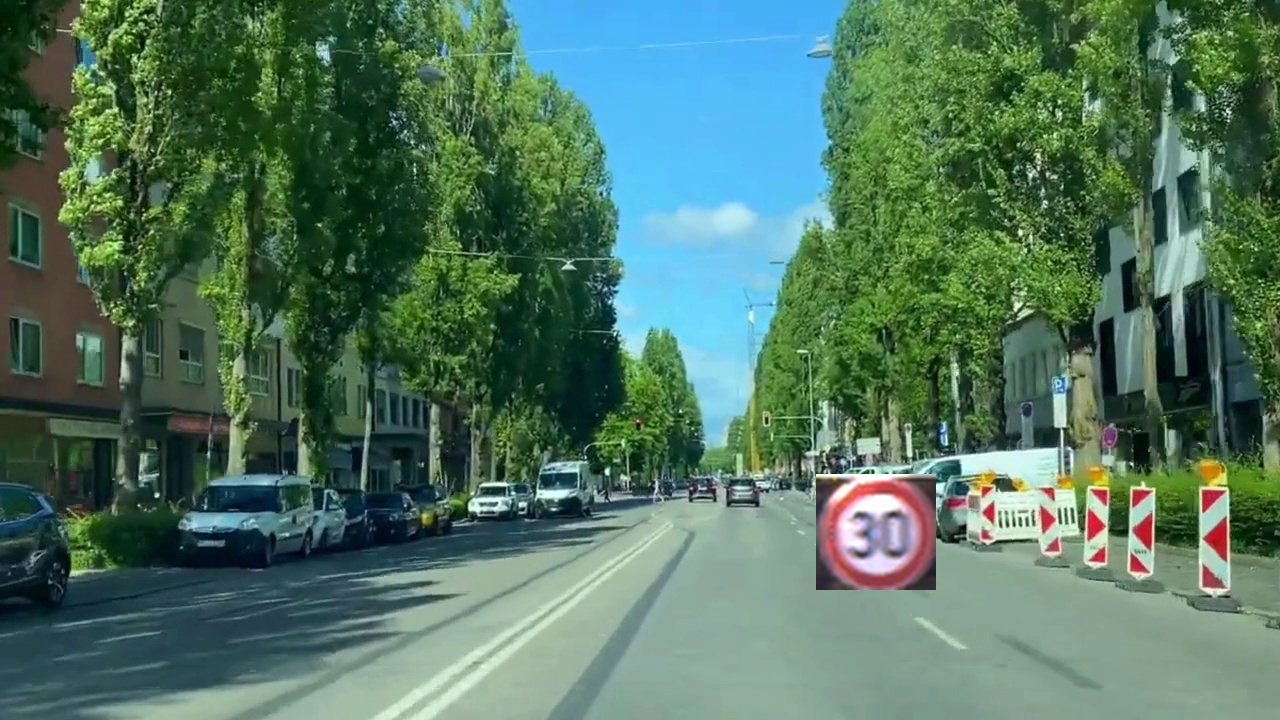Speed 30: (816, 474, 936, 590)
